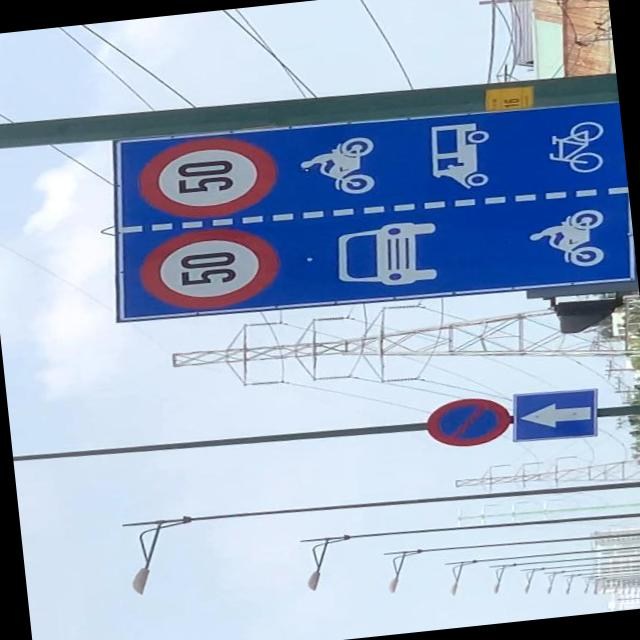I-407a: (510, 385, 597, 442)
P-131a: (423, 394, 511, 448)
